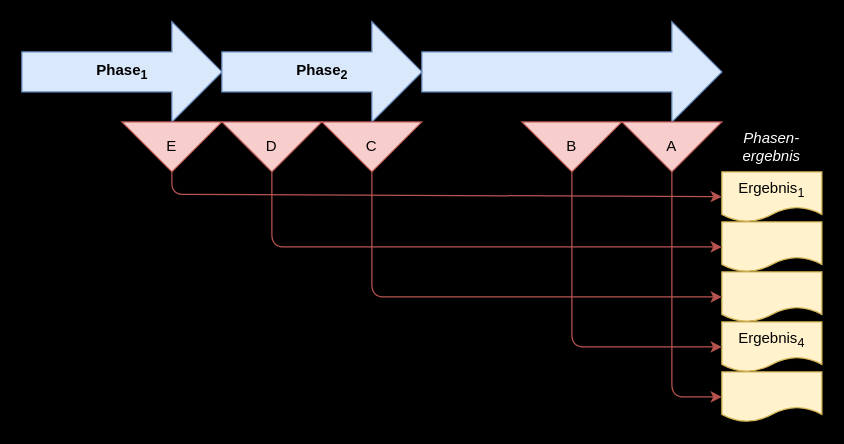
The diagram is 844 pixels wide and 444 high, and some of its shapes have lost their labels. Here are the shapes that lost their labels. From the top down, the centre of each, then its label:
At pixel 571 71: "Phase 3".
At pixel 771 246: "Ergebnis 2".
At pixel 771 296: "Ergebnis 3".
At pixel 771 396: "Ergebnis 5".
